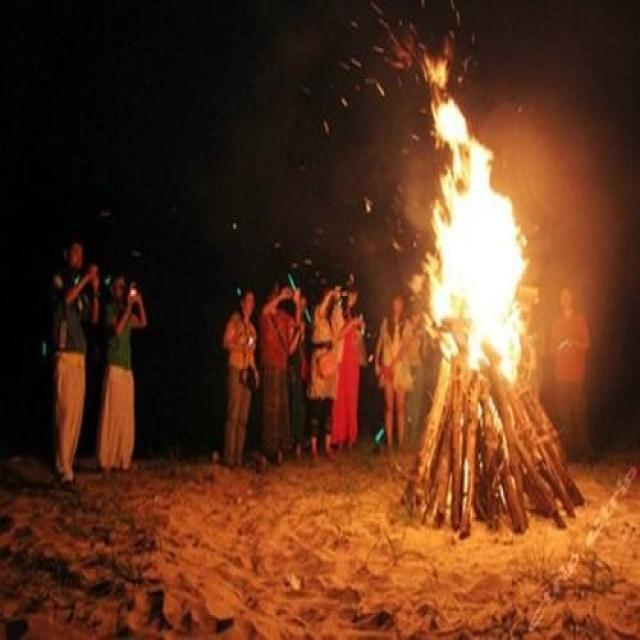Fire: (349, 2, 539, 510)
